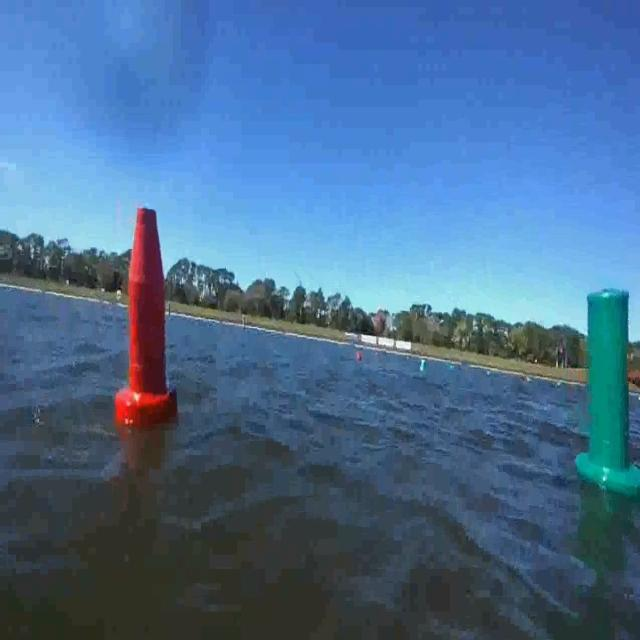green-column-buoy: (578, 291, 640, 496)
red-column-buoy: (117, 202, 180, 430)
